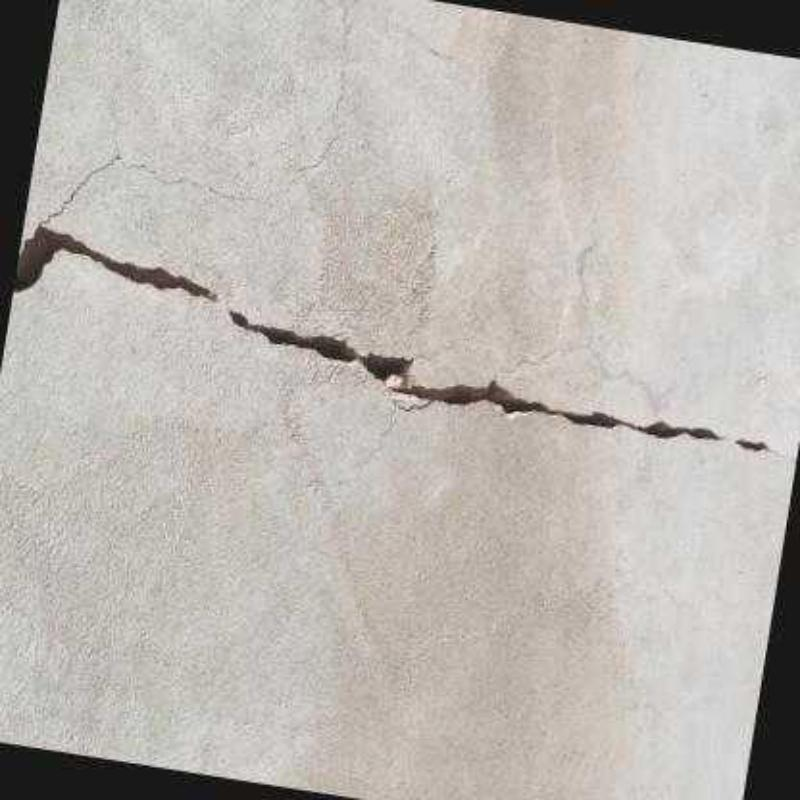pothole: (12, 223, 797, 464), (38, 158, 252, 225)
